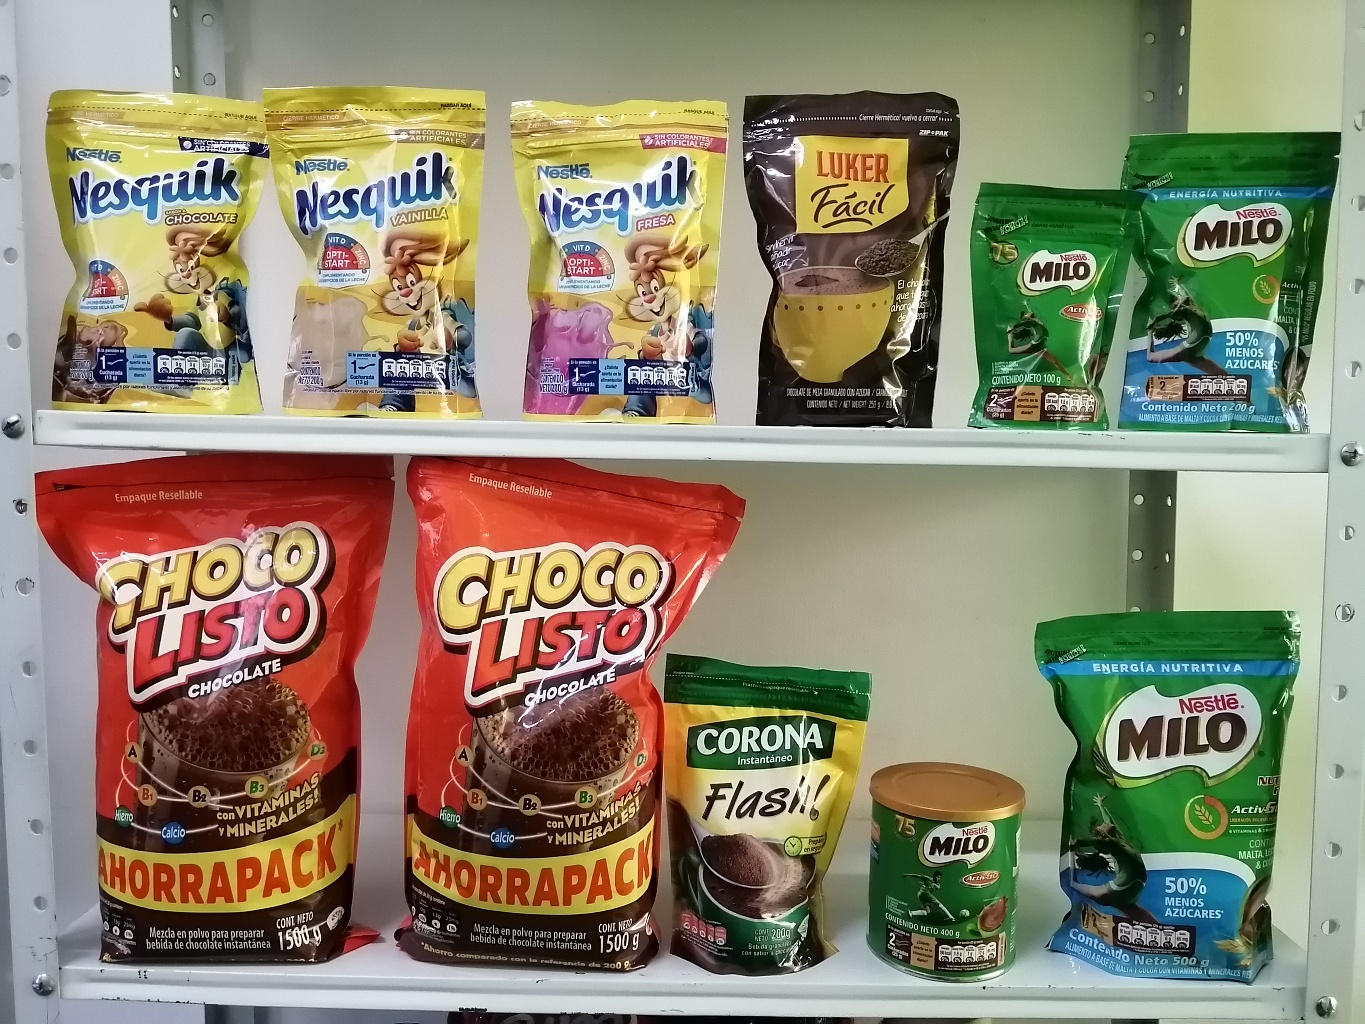COL0170103DYP1,500: (400, 455, 738, 983)
COL0170203DYP10000: (965, 168, 1155, 435)
COL0170203LAT40000: (854, 741, 1034, 985)
COL0170205DYP20000: (1117, 114, 1343, 435)
COL0170205DYP50000: (1037, 581, 1306, 993)
COL0170303DYP20000: (24, 79, 266, 410)
COL0170305DYP20000: (518, 84, 745, 418)
COL0170306DYP20000: (252, 67, 516, 418)
